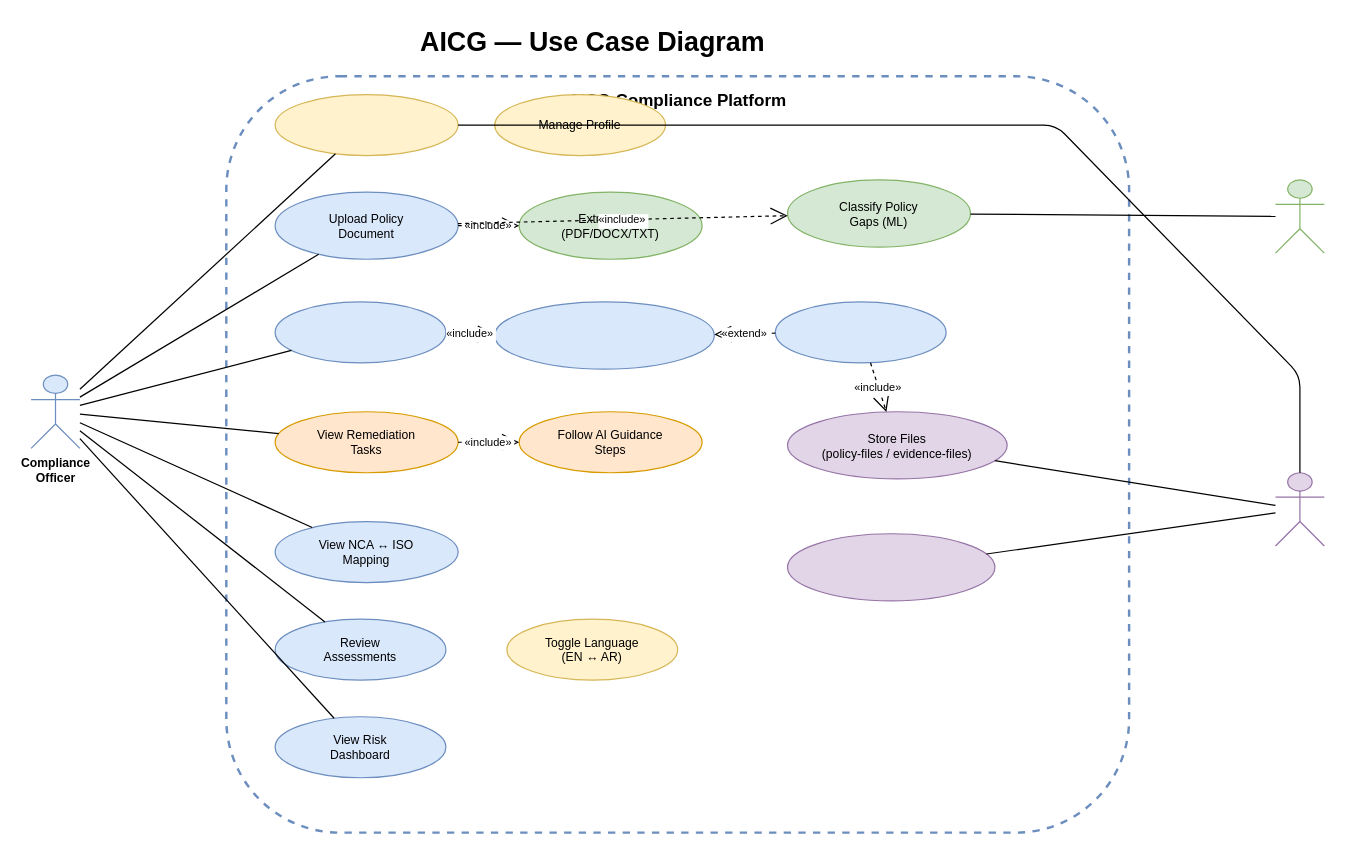
The diagram is 1355 pixels wide and 854 high, and some of its shapes have lost their labels. The shapes that lost their labels are listed below. From the top down, each one's centre as x and y in pixels, then its label:
the point at 366,124: Sign Up / Sign In
the point at 1299,216: ML API (Cloud Run)
the point at 360,332: Create Assessment
the point at 603,335: Evaluate Controls (NCA ECC / ISO 27001)
the point at 860,332: Upload Evidence Files
the point at 1299,509: Supabase (BaaS)
the point at 890,567: Persist Data (PostgreSQL + RLS)
